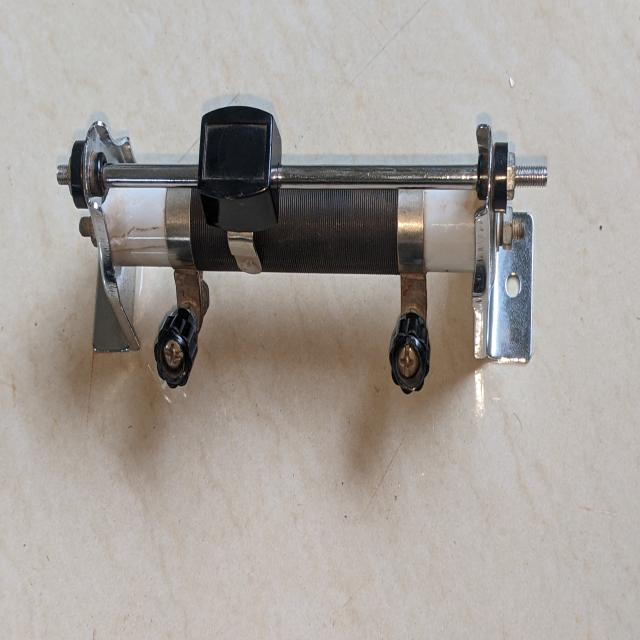Rheostat: (39, 95, 561, 428)
